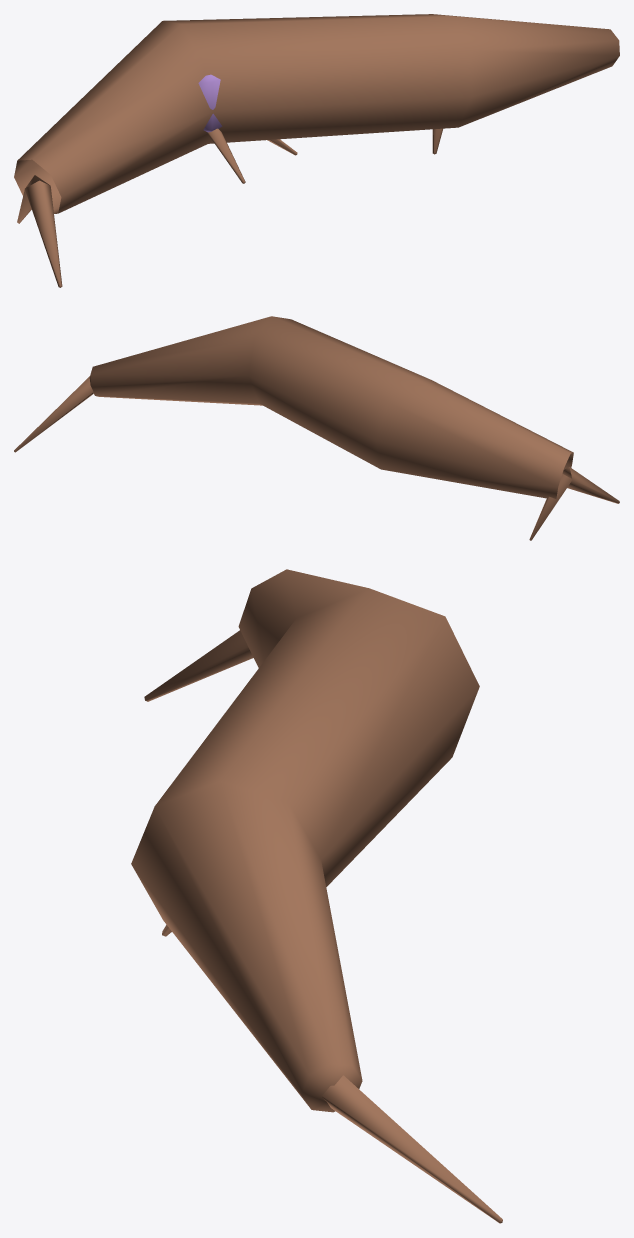
The model's file is ing_hollow_root.gltf.
3 views of the same model, one above another, from view 1: azimuth 30°, elevation 25°; view 2: azimuth 150°, elevation 25°; view 3: azimuth 270°, elevation 25° (orthographic). The views are drawn at different scales.
Visible parts, largest first — view 1: ing_hollow_root; view 2: ing_hollow_root; view 3: ing_hollow_root.
Boxes of the visible parts, x1,y1,x2,y2 form: ing_hollow_root: (14,14,619,287); ing_hollow_root: (14,316,619,540); ing_hollow_root: (131,569,502,1223).
Size of what is drawn, in the model's own units: 0.5643 by 0.146 by 0.1755.
